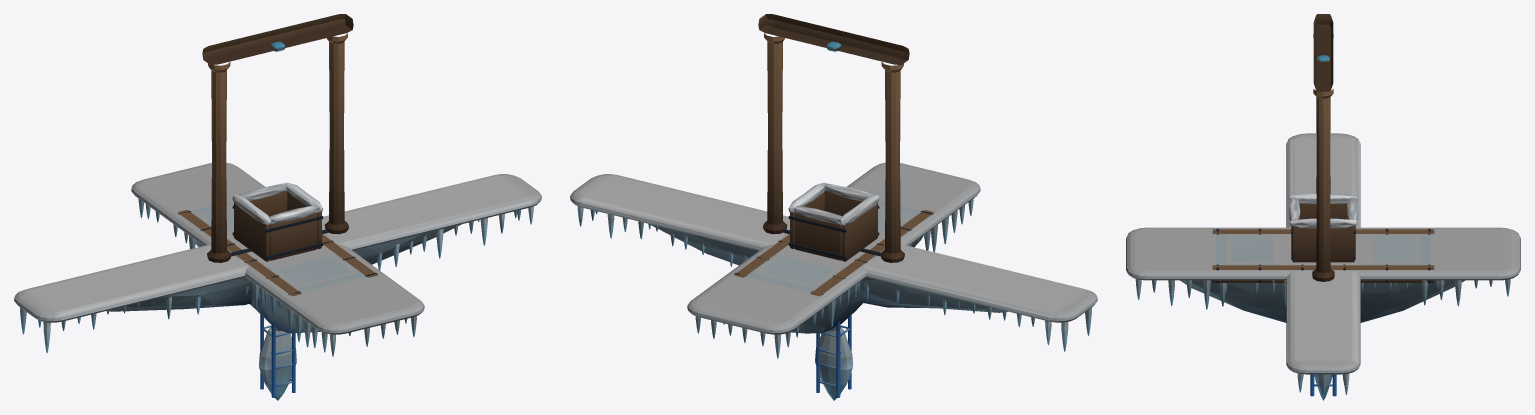
The model's file is glacier-3-ZnQzOTv7.glb.
The picture shows the model from 3 angles, left to right: view 1: azimuth 30°, elevation 25°; view 2: azimuth 150°, elevation 25°; view 3: azimuth 270°, elevation 25°; orthographic projection. The views are drawn at different scales.
Parts seen in each view (by area): view 1: block_40x2x5#0, block_8x2x28#0, pressFrame_7.5x6x2.5x7#0, hopper_3x3#0, block_7x2x16_ice#0, belt_7x1.5x16x0#0, blade_3x12x1#0, truss_11#0, block_6x2x8#0; view 2: block_40x2x5#0, block_8x2x28#0, pressFrame_7.5x6x2.5x7#0, hopper_3x3#0, block_7x2x16_ice#0, belt_7x1.5x16x0#0, blade_3x12x1#0, truss_11#0, block_6x2x8#0; view 3: block_8x2x28#0, block_40x2x5#0, pressFrame_7.5x6x2.5x7#0, hopper_3x3#0, block_7x2x16_ice#0, belt_7x1.5x16x0#0, block_6x2x8#0, block_5x2x7#0.
Part boxes in pixels (box(x1,y1,x2,y2)): block_40x2x5#0: box(14, 174, 541, 353); block_8x2x28#0: box(131, 162, 424, 356); pressFrame_7.5x6x2.5x7#0: box(202, 14, 353, 262); hopper_3x3#0: box(232, 182, 323, 261); block_7x2x16_ice#0: box(191, 200, 364, 291); belt_7x1.5x16x0#0: box(177, 210, 377, 308); blade_3x12x1#0: box(259, 327, 296, 400); truss_11#0: box(260, 315, 295, 397); block_6x2x8#0: box(227, 229, 330, 268); block_40x2x5#0: box(570, 174, 1097, 351); block_8x2x28#0: box(687, 162, 980, 358); pressFrame_7.5x6x2.5x7#0: box(758, 14, 909, 262); hopper_3x3#0: box(788, 182, 879, 261); block_7x2x16_ice#0: box(747, 200, 920, 291); belt_7x1.5x16x0#0: box(734, 210, 934, 300); blade_3x12x1#0: box(815, 327, 852, 400); truss_11#0: box(816, 315, 851, 397); block_6x2x8#0: box(781, 229, 884, 268); block_8x2x28#0: box(1126, 227, 1520, 322); block_40x2x5#0: box(1286, 133, 1360, 397); pressFrame_7.5x6x2.5x7#0: box(1312, 14, 1334, 281); hopper_3x3#0: box(1289, 193, 1357, 262); block_7x2x16_ice#0: box(1216, 234, 1430, 265); belt_7x1.5x16x0#0: box(1212, 229, 1438, 293); block_6x2x8#0: box(1274, 234, 1372, 264); block_5x2x7#0: box(1281, 237, 1365, 261).
Size of the model in its own units: 40.36 by 28.1 by 28.36.
